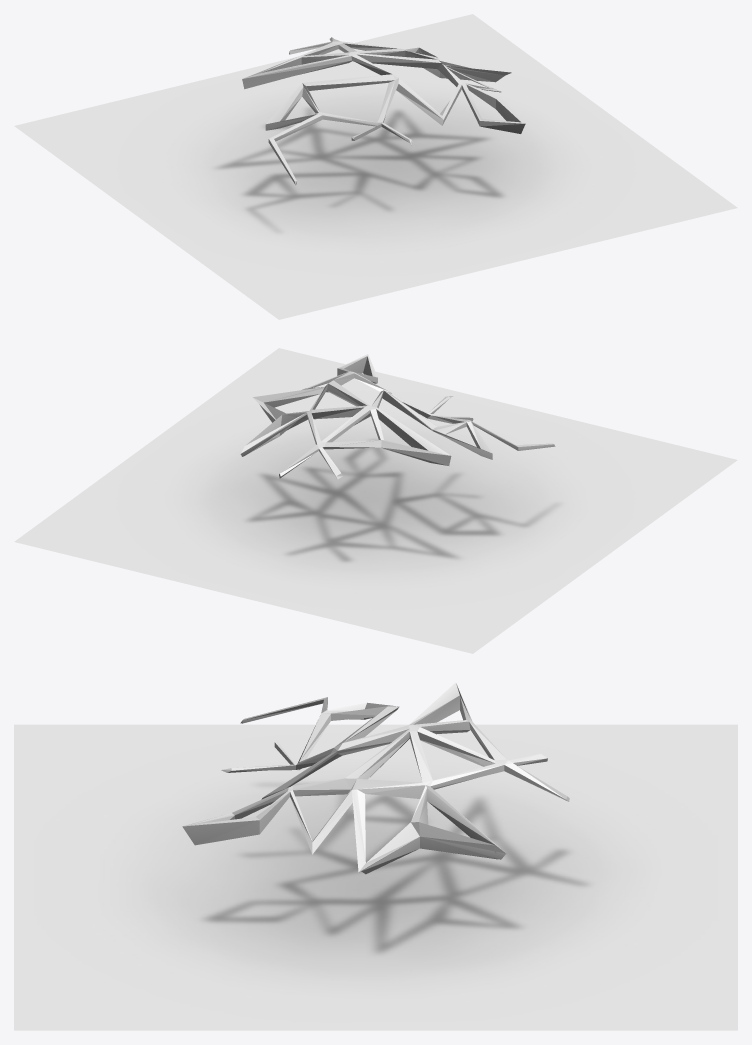
3 views of the same model, one above another, from view 1: azimuth 30°, elevation 25°; view 2: azimuth 150°, elevation 25°; view 3: azimuth 270°, elevation 25° (orthographic). The views are drawn at different scales.
Parts seen in each view (by area): view 1: sol, root; view 2: sol, root; view 3: sol, root.
Boxes of the visible parts, x1,y1,x2,y2 form: sol: [14, 14, 737, 319]; root: [242, 37, 525, 184]; sol: [14, 348, 737, 653]; root: [240, 354, 555, 479]; sol: [14, 724, 737, 1030]; root: [182, 682, 569, 874].
Bounding box in the file's own units: 600 × 132 × 600.
Materials: 2 (2 with a texture image).
